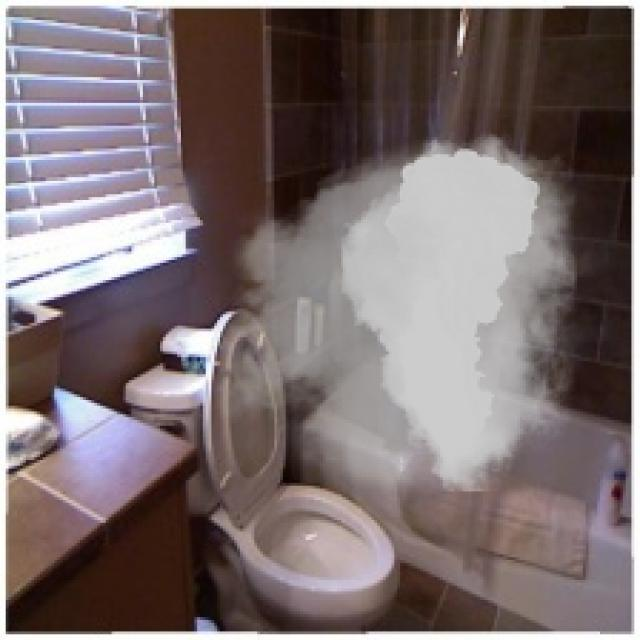Smoke: (192, 122, 608, 518)
